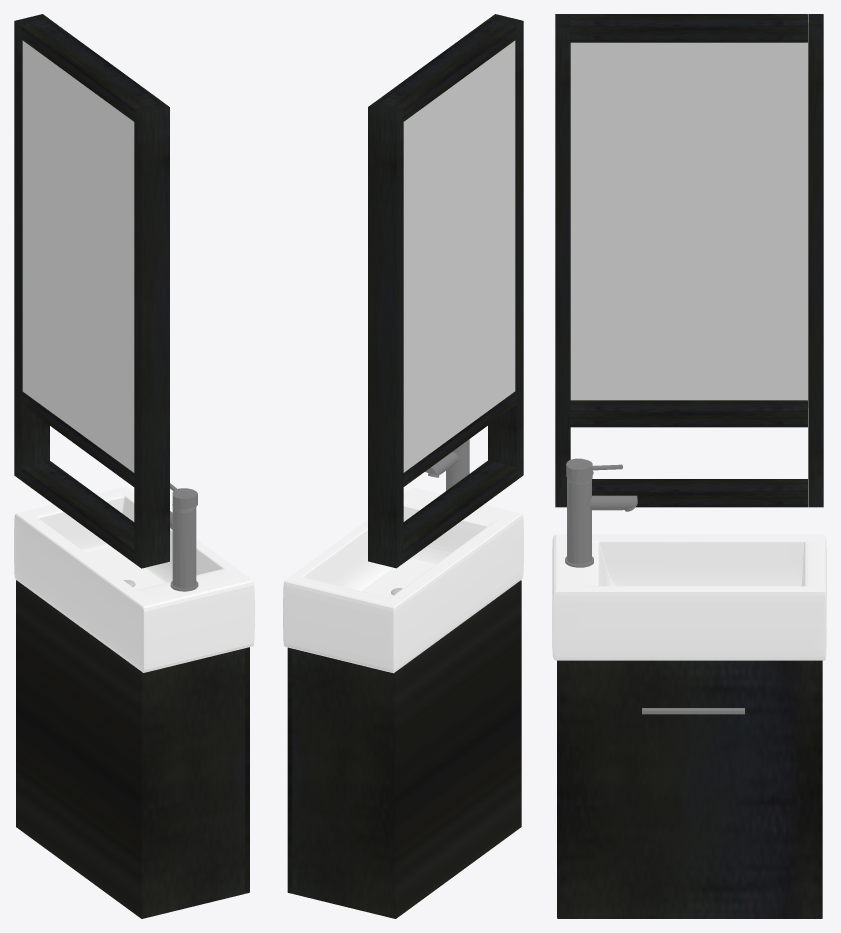
File: RN-8307-MUEBLE-N.glb
The picture shows the model from 3 angles, left to right: view 1: azimuth 30°, elevation 25°; view 2: azimuth 150°, elevation 25°; view 3: azimuth 270°, elevation 25°; orthographic projection. The views are drawn at different scales.
Visible parts, largest first — view 1: ChamferBox005, Box003, Box002, Cylinder001; view 2: ChamferBox005, Box003, Box002, Cylinder001; view 3: ChamferBox005, Box003, Box002, Cylinder001, Manija1.
Boxes of the visible parts, box(x1,y1,x2,y2) form: ChamferBox005: box(14, 14, 249, 918); Box003: box(22, 40, 134, 472); Box002: box(14, 487, 254, 672); Cylinder001: box(170, 483, 198, 591); ChamferBox005: box(287, 14, 523, 918); Box003: box(403, 40, 515, 472); Box002: box(283, 487, 523, 673); Cylinder001: box(425, 439, 469, 490); ChamferBox005: box(555, 14, 823, 918); Box003: box(570, 23, 808, 407); Box002: box(552, 534, 826, 660); Cylinder001: box(565, 458, 637, 567); Manija1: box(642, 708, 744, 714).
Size of the model in its own units: 0.2402 by 1.61 by 0.4709.
4 materials, 1 textured.
